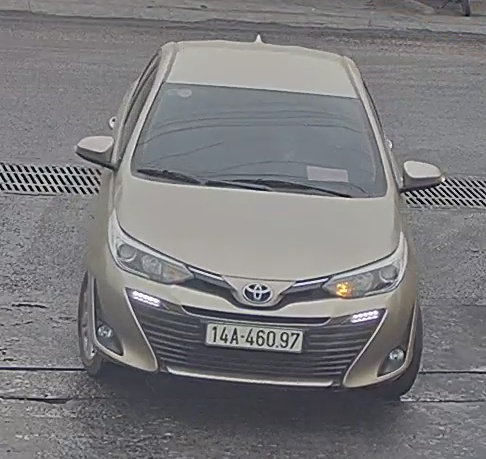vehicle plate: (202, 313, 309, 358)
